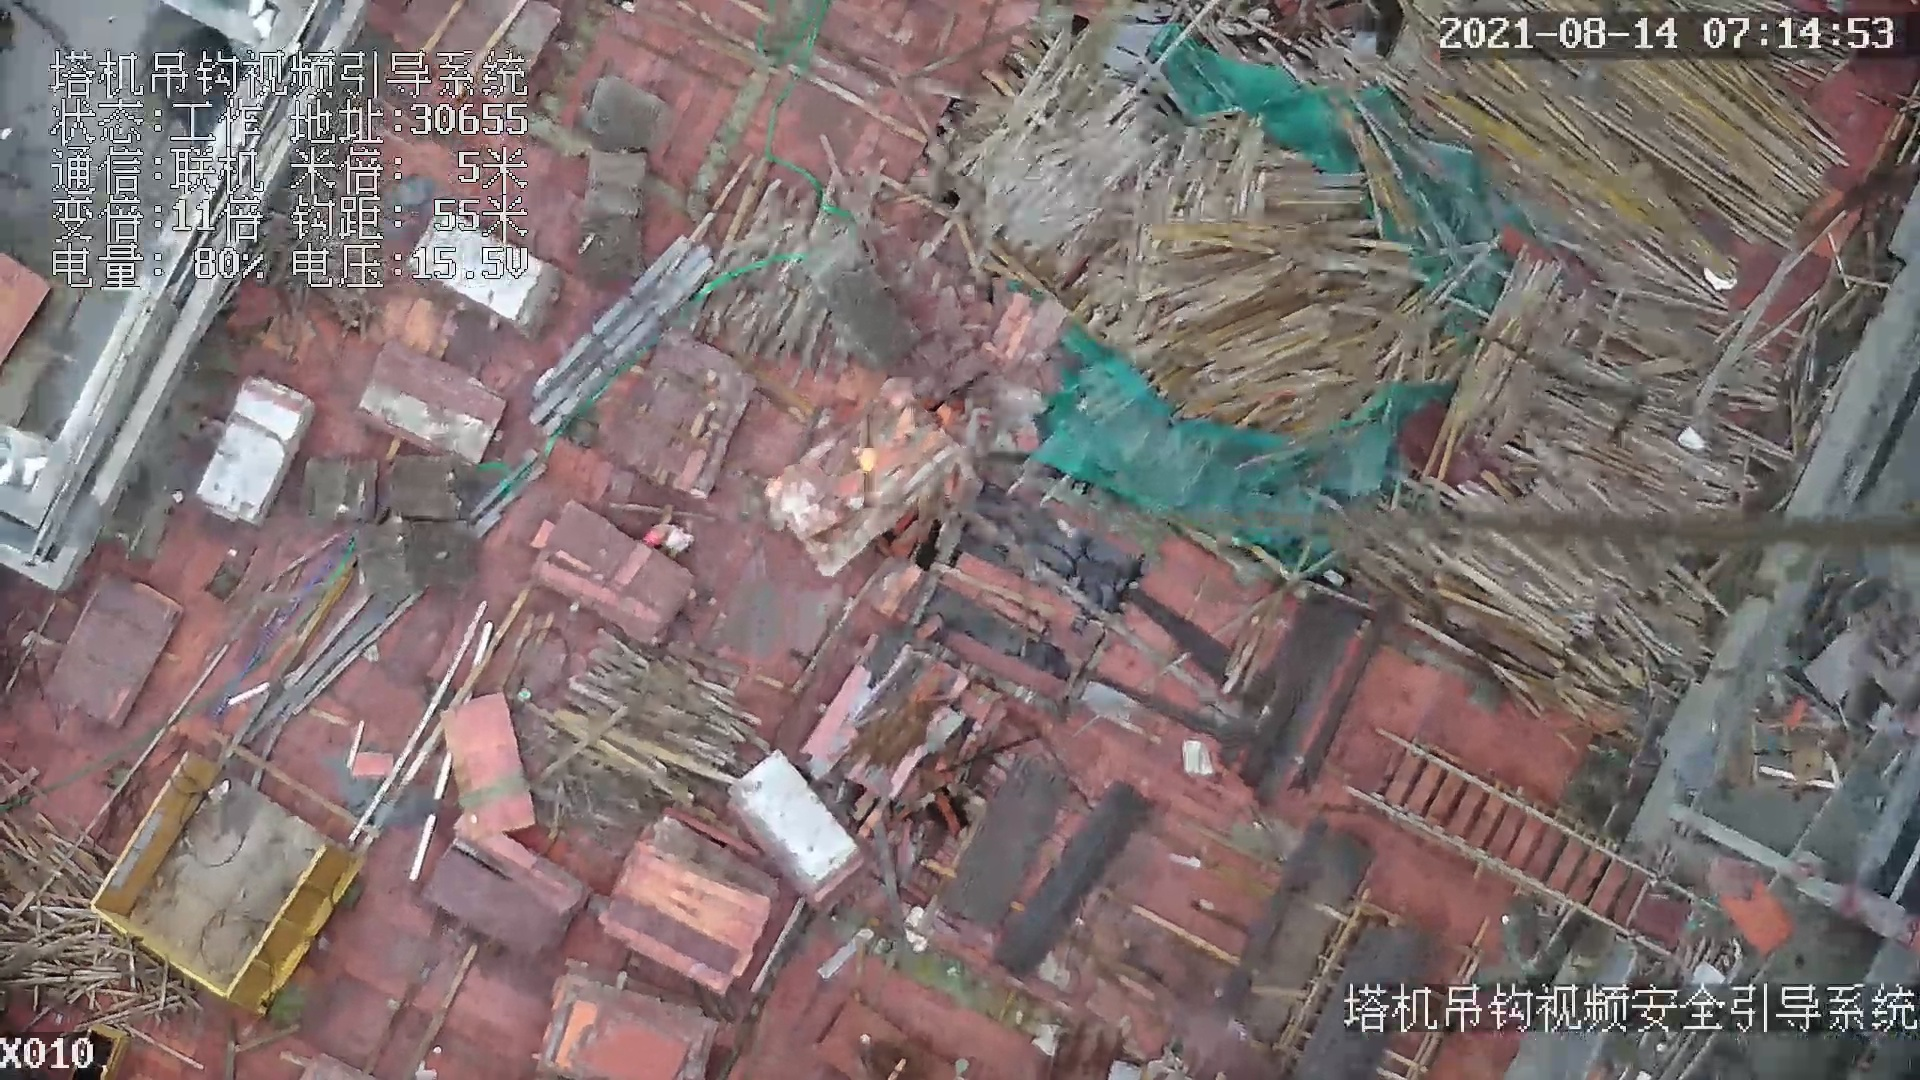hook: (844, 404, 881, 510)
